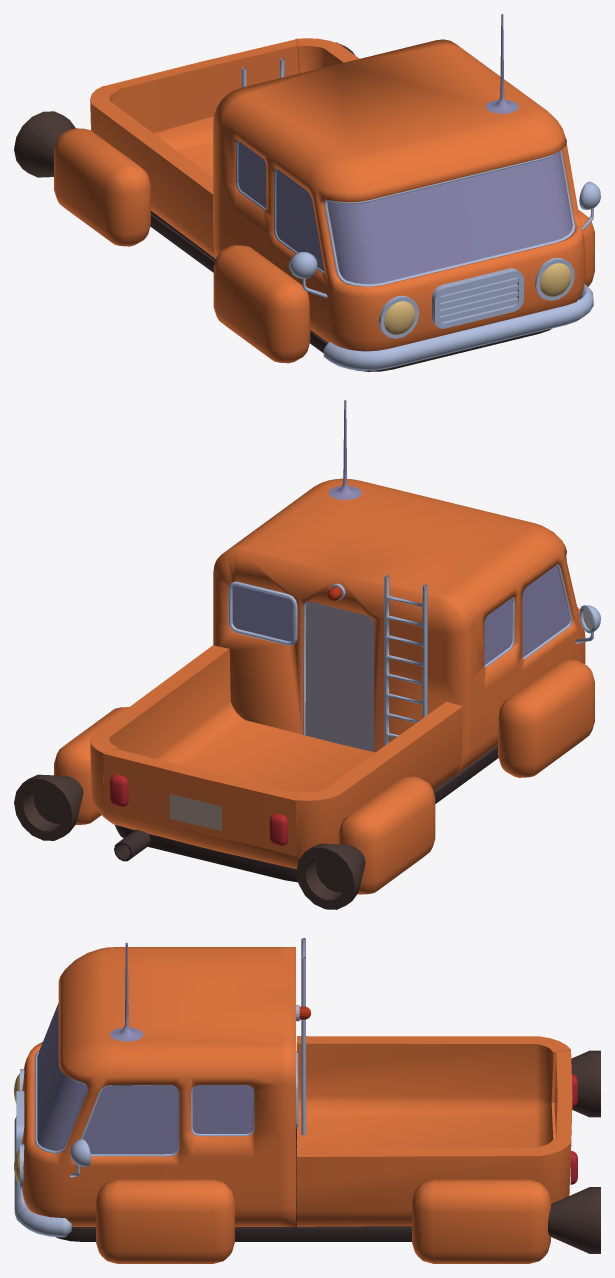
Rendered from auto uwrapeado.glb.
3 views of the same model, one above another, from view 1: azimuth 30°, elevation 25°; view 2: azimuth 150°, elevation 25°; view 3: azimuth 270°, elevation 25° (orthographic).
Visible parts, largest first — view 1: chasis, ventanas, metales, compuerta cama, parrilla, ventanas lateral der, propulsor derecho, piso, luz delantera der, luz delantera izq, espejo der, antena (+1 smaller); view 2: chasis, compuerta cama, puerta, metales, ventanas, piso, propulsor izquierdo, propulsor derecho, ventanas lateral der, patente, antena; view 3: chasis, ventanas, ventanas lateral izq, metales, piso, propulsor izquierdo, propulsor derecho, compuerta cama, antena, espejo izq, parrilla.
Boxes of the visible parts, left/top/right/bottom form: chasis: left=54, top=38, right=594, bottom=363; ventanas: left=238, top=142, right=572, bottom=283; metales: left=236, top=58, right=593, bottom=370; compuerta cama: left=104, top=39, right=298, bottom=132; parrilla: left=432, top=268, right=523, bottom=328; ventanas lateral der: left=276, top=169, right=324, bottom=271; propulsor derecho: left=14, top=111, right=75, bottom=177; piso: left=150, top=211, right=551, bottom=371; luz delantera der: left=384, top=301, right=415, bottom=334; luz delantera izq: left=540, top=263, right=571, bottom=296; espejo der: left=289, top=252, right=327, bottom=298; antena: left=485, top=14, right=519, bottom=113; chasis: left=54, top=478, right=594, bottom=894; compuerta cama: left=103, top=749, right=297, bottom=855; puerta: left=305, top=602, right=374, bottom=751; metales: left=228, top=564, right=593, bottom=745; ventanas: left=232, top=586, right=512, bottom=665; piso: left=114, top=744, right=498, bottom=882; propulsor izquierdo: left=14, top=774, right=83, bottom=840; propulsor derecho: left=296, top=843, right=365, bottom=909; ventanas lateral der: left=522, top=566, right=569, bottom=657; patente: left=169, top=794, right=221, bottom=831; antena: left=328, top=400, right=362, bottom=499; chasis: left=22, top=947, right=570, bottom=1263; ventanas: left=37, top=1003, right=252, bottom=1150; ventanas lateral izq: left=83, top=1085, right=177, bottom=1154; metales: left=14, top=938, right=305, bottom=1237; piso: left=56, top=1128, right=411, bottom=1241; propulsor izquierdo: left=548, top=1187, right=600, bottom=1253; propulsor derecho: left=571, top=1050, right=600, bottom=1117; compuerta cama: left=554, top=1050, right=572, bottom=1146; antena: left=110, top=942, right=143, bottom=1041; espejo izq: left=70, top=1139, right=91, bottom=1177; parrilla: left=16, top=1091, right=24, bottom=1153.
Size of the model in its own units: 3.25 by 2.7 by 4.9.
Materials: 24 (23 with a texture image).
